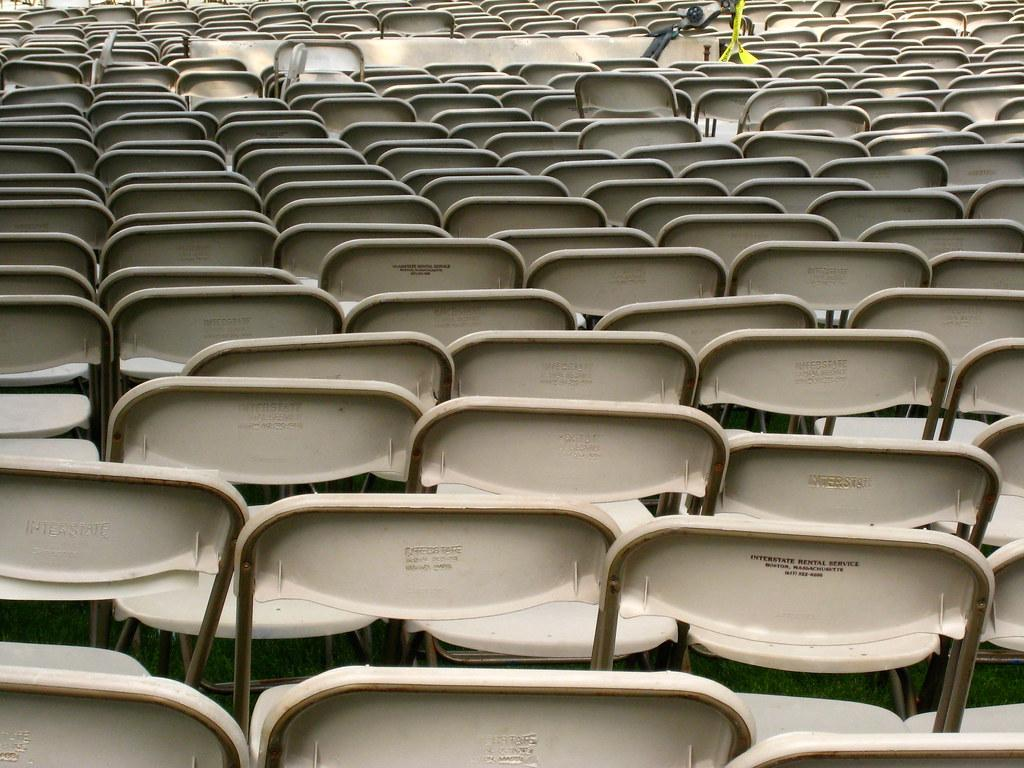chair: (106, 375, 423, 692), (401, 397, 728, 670), (599, 515, 997, 738), (1, 454, 250, 694), (250, 666, 756, 768), (835, 286, 1024, 441), (1, 666, 251, 768), (110, 285, 346, 389), (446, 330, 700, 407), (1, 295, 113, 460), (727, 240, 932, 328), (318, 238, 527, 318), (525, 246, 729, 320), (100, 216, 282, 282), (272, 222, 454, 286), (726, 732, 1024, 768), (806, 189, 965, 241), (623, 195, 788, 243), (583, 177, 731, 227), (443, 195, 610, 239), (743, 133, 870, 176), (732, 177, 874, 214), (541, 158, 675, 197), (678, 156, 812, 195), (815, 154, 949, 192), (576, 73, 679, 119), (621, 141, 744, 177), (759, 106, 871, 137), (967, 178, 1024, 225)
